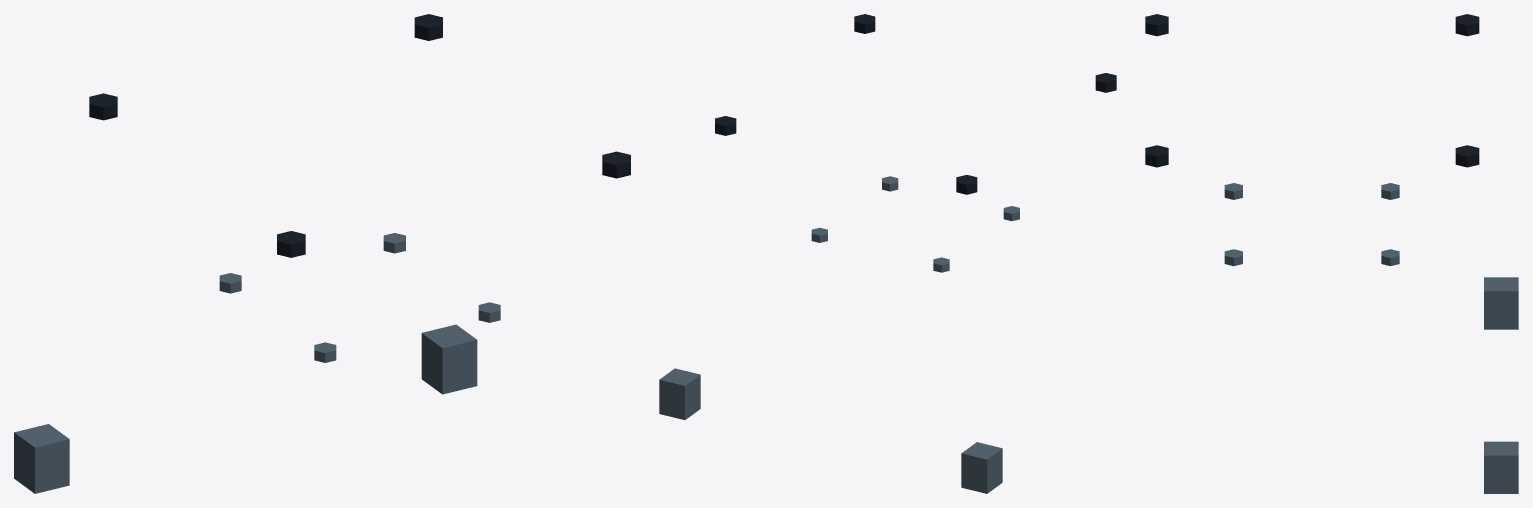
The model's file is P16-06_detail.obj.
3 views of the same model, side by side, from view 1: azimuth 30°, elevation 25°; view 2: azimuth 150°, elevation 25°; view 3: azimuth 270°, elevation 25° (orthographic). The views are drawn at different scales.
Parts seen in each view (by area): view 1: P16-06_STATIC_Steel_DETAIL_StaticSideTie_1, P16-06_STATIC_Steel_DETAIL_StaticSideTie_0, P16-06_STATIC_DarkPanel_DETAIL_CeilingPlateBolt_L_B, P16-06_STATIC_DarkPanel_DETAIL_CeilingPlateBolt_R_F, P16-06_STATIC_DarkPanel_DETAIL_CeilingPlateBolt_L_F, P16-06_STATIC_DarkPanel_DETAIL_CeilingPlateBolt_R_B; view 2: P16-06_STATIC_Steel_DETAIL_StaticSideTie_0, P16-06_STATIC_Steel_DETAIL_StaticSideTie_1; view 3: P16-06_STATIC_Steel_DETAIL_StaticSideTie_0, P16-06_STATIC_Steel_DETAIL_StaticSideTie_1, P16-06_STATIC_DarkPanel_DETAIL_CeilingPlateBolt_L_B, P16-06_STATIC_DarkPanel_DETAIL_CeilingPlateBolt_R_B, P16-06_STATIC_DarkPanel_DETAIL_CeilingPlateBolt_R_F, P16-06_STATIC_DarkPanel_DETAIL_CeilingPlateBolt_L_F.
Part boxes in pixels (left/top/right/bottom): P16-06_STATIC_Steel_DETAIL_StaticSideTie_1: left=421, top=324, right=477, bottom=394; P16-06_STATIC_Steel_DETAIL_StaticSideTie_0: left=14, top=424, right=69, bottom=493; P16-06_STATIC_DarkPanel_DETAIL_CeilingPlateBolt_L_B: left=89, top=93, right=117, bottom=120; P16-06_STATIC_DarkPanel_DETAIL_CeilingPlateBolt_R_F: left=602, top=151, right=630, bottom=178; P16-06_STATIC_DarkPanel_DETAIL_CeilingPlateBolt_L_F: left=277, top=231, right=305, bottom=257; P16-06_STATIC_DarkPanel_DETAIL_CeilingPlateBolt_R_B: left=414, top=14, right=442, bottom=40; P16-06_STATIC_Steel_DETAIL_StaticSideTie_0: left=961, top=442, right=1002, bottom=493; P16-06_STATIC_Steel_DETAIL_StaticSideTie_1: left=659, top=368, right=700, bottom=419; P16-06_STATIC_Steel_DETAIL_StaticSideTie_0: left=1484, top=277, right=1518, bottom=329; P16-06_STATIC_Steel_DETAIL_StaticSideTie_1: left=1484, top=441, right=1518, bottom=493; P16-06_STATIC_DarkPanel_DETAIL_CeilingPlateBolt_L_B: left=1455, top=14, right=1479, bottom=36; P16-06_STATIC_DarkPanel_DETAIL_CeilingPlateBolt_R_B: left=1455, top=145, right=1479, bottom=167; P16-06_STATIC_DarkPanel_DETAIL_CeilingPlateBolt_R_F: left=1145, top=145, right=1168, bottom=167; P16-06_STATIC_DarkPanel_DETAIL_CeilingPlateBolt_L_F: left=1145, top=14, right=1168, bottom=36.
Size of the model in its own units: 0.28 by 0.234 by 0.2478.
